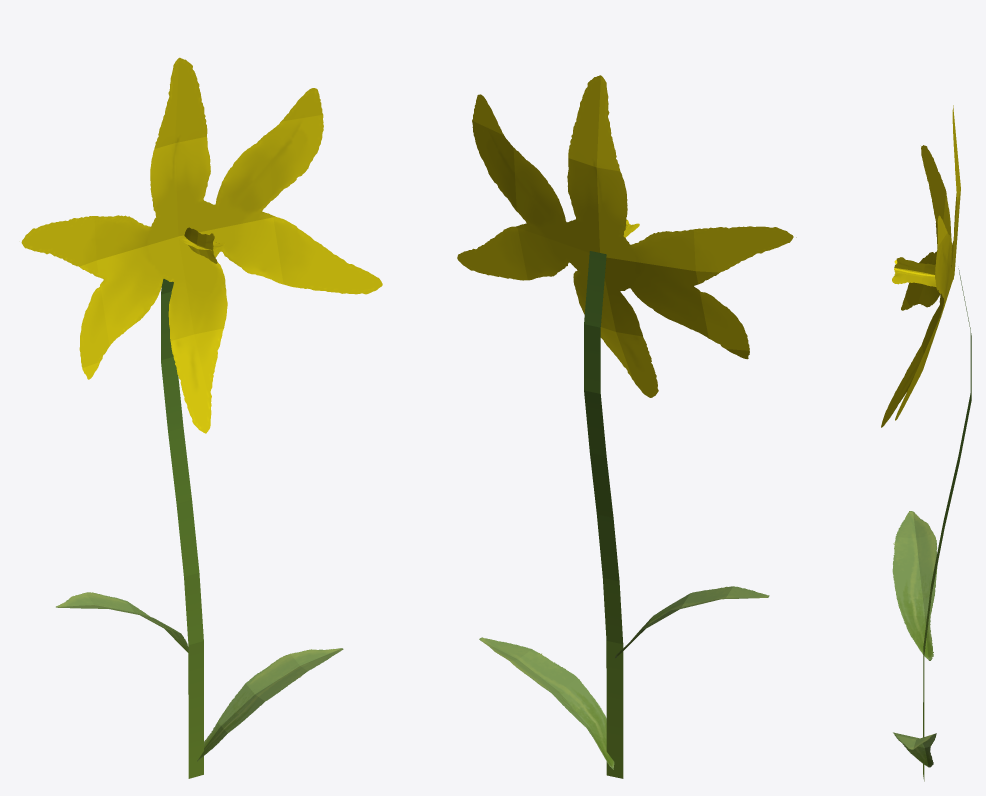
File: Flower_2.fbx
3 renders of one model, left to right at view 1: azimuth 30°, elevation 25°; view 2: azimuth 150°, elevation 25°; view 3: azimuth 270°, elevation 25°, orthographic. The views are drawn at different scales.
Parts seen in each view (by area): view 1: Flower_2; view 2: Flower_2; view 3: Flower_2.
Part boxes in pixels (bbox=[...]): Flower_2: bbox=[21, 57, 382, 778]; Flower_2: bbox=[457, 75, 796, 778]; Flower_2: bbox=[881, 105, 971, 781].
Bounding box in the file's own units: 175 × 340 × 51.36.
